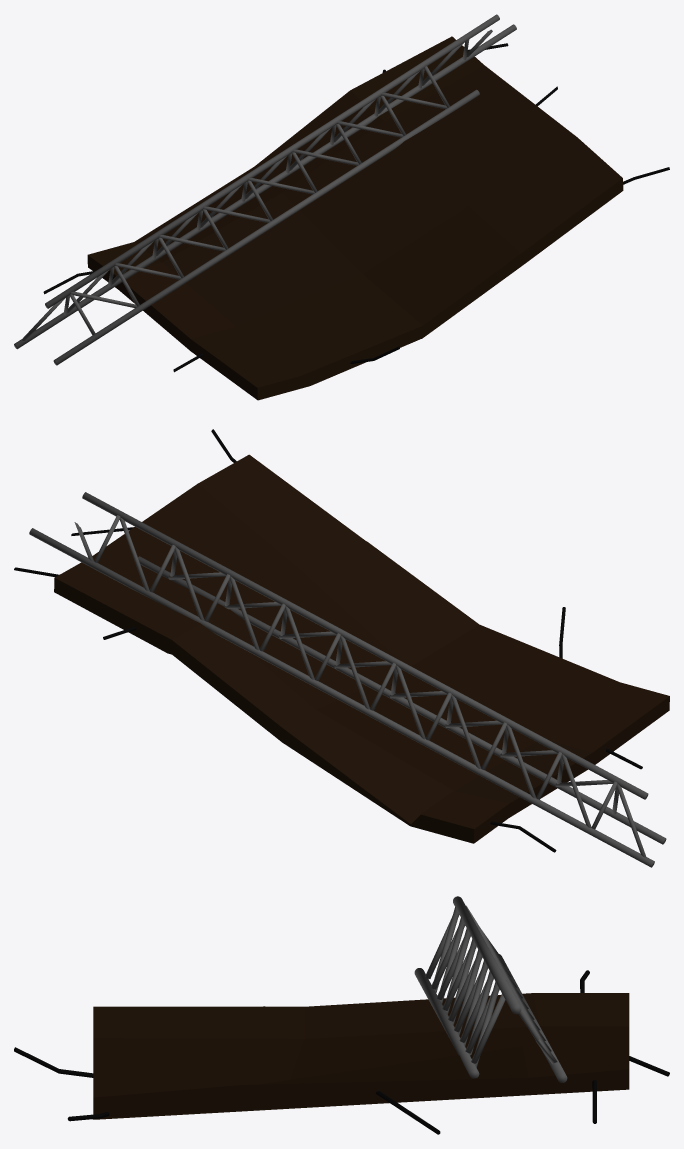
The model's file is müll3.fbx.
3 views of the same model, one above another, from view 1: azimuth 30°, elevation 25°; view 2: azimuth 150°, elevation 25°; view 3: azimuth 270°, elevation 25° (orthographic). The views are drawn at different scales.
Visible parts, largest first — view 1: Cube, Cylinder; view 2: Cube, Cylinder; view 3: Cube, Cylinder, Cylinder.004, Cylinder.003.
Part boxes in pixels (x1,y1,x2,y2): Cube: [87, 36, 623, 400]; Cylinder: [14, 14, 516, 365]; Cube: [54, 454, 669, 843]; Cylinder: [29, 492, 666, 867]; Cube: [93, 993, 629, 1119]; Cylinder: [414, 896, 567, 1082]; Cylinder.004: [14, 1047, 93, 1077]; Cylinder.003: [375, 1091, 440, 1134].
Size of the model in its own units: 725 by 282 by 498.
